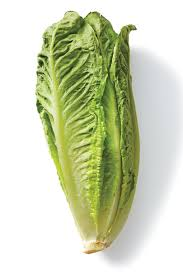lettuce: (35, 5, 138, 256)
